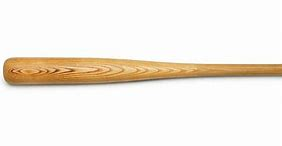bat: (2, 55, 282, 87)
